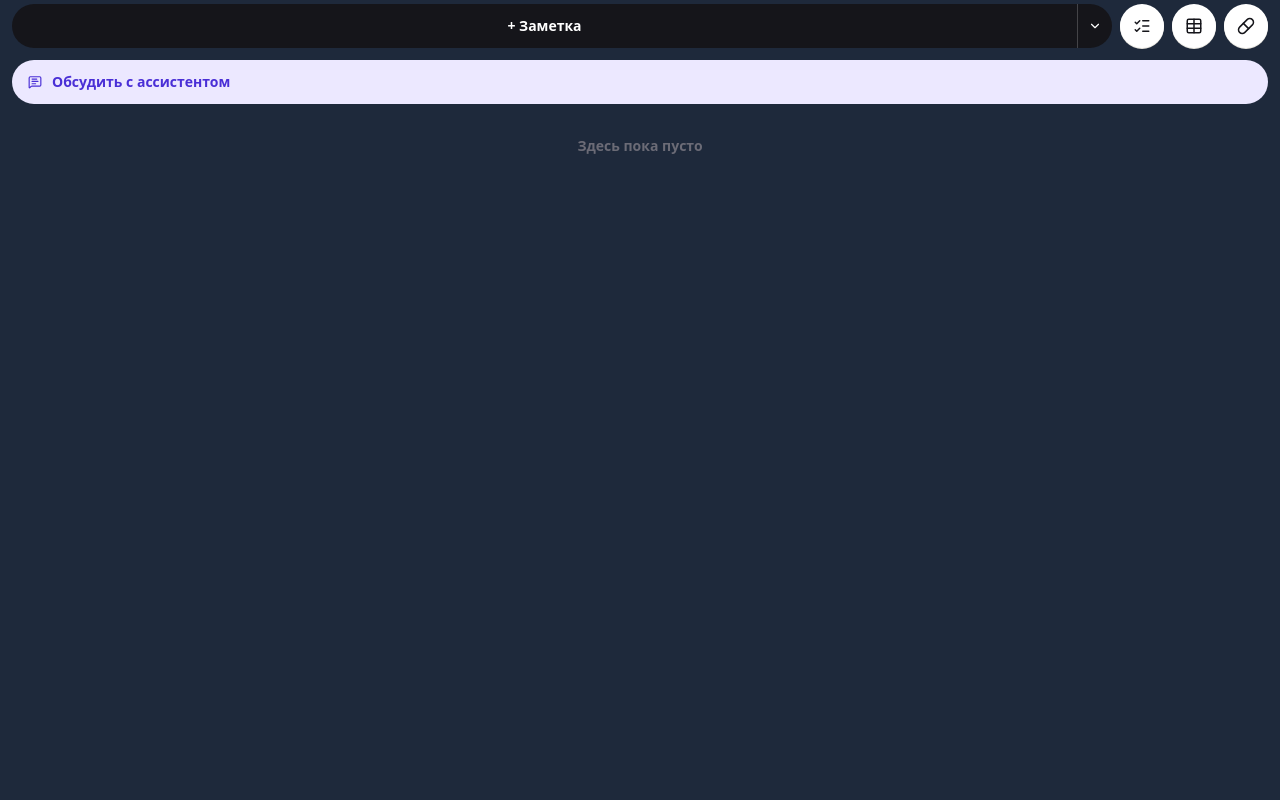
Test: NoteList — «Обсудить с ассистентом» › удаление диалога в пикере зовёт deleteItem и убирает его из списка
Click the button "Обсудить с ассистентом". click: (141, 82)
box: [12, 60, 1268, 104]
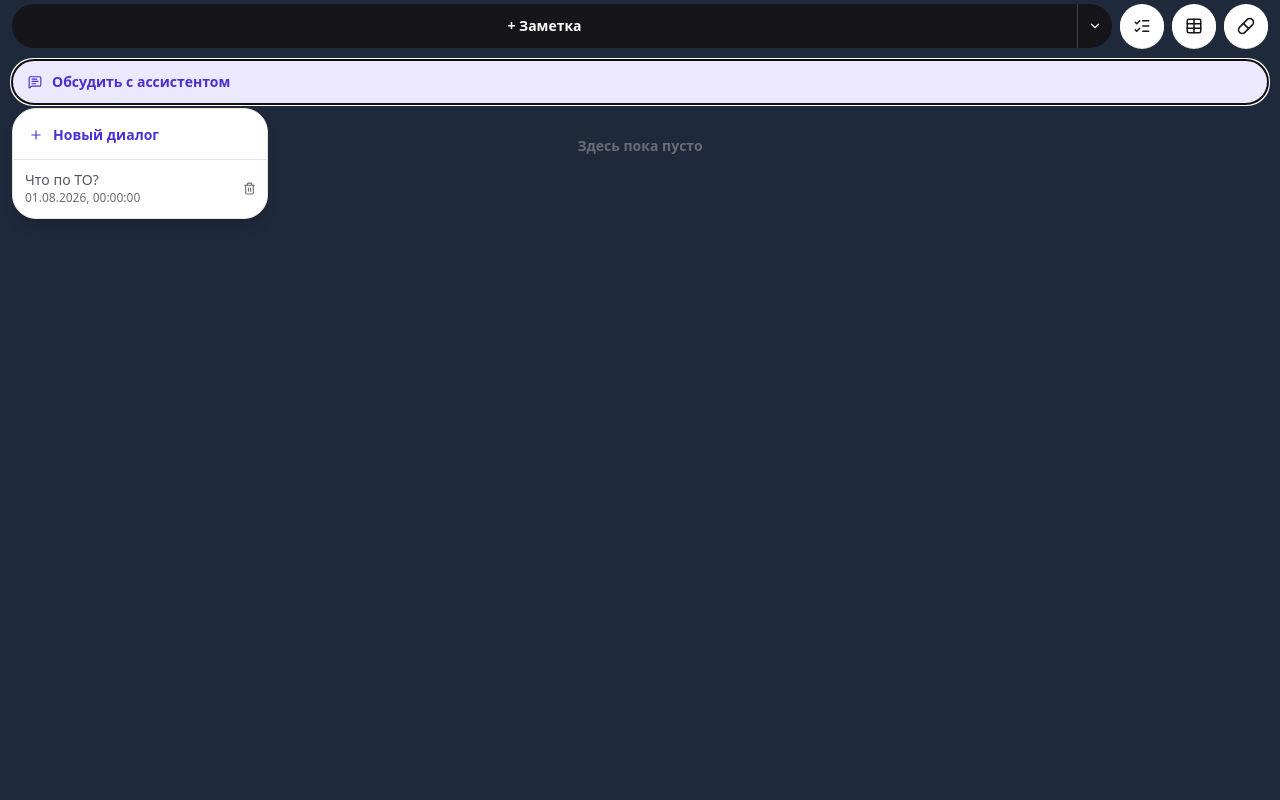
Expected: the text "Что по ТО?" is shown, [25, 170, 99, 189]
Click the button titled "Удалить диалог". click: (249, 188)
box: [235, 174, 263, 202]
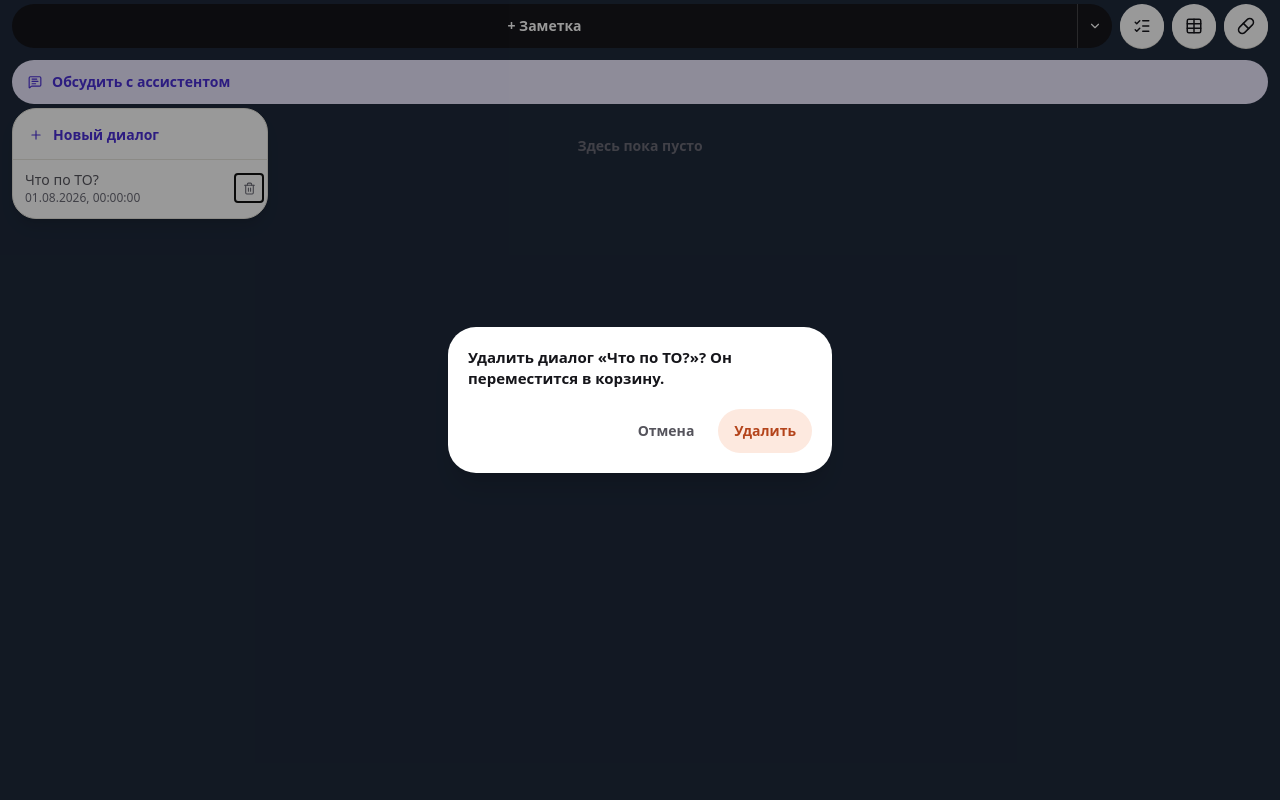
Click the button "Удалить". click: (765, 431)
box: [718, 409, 812, 453]
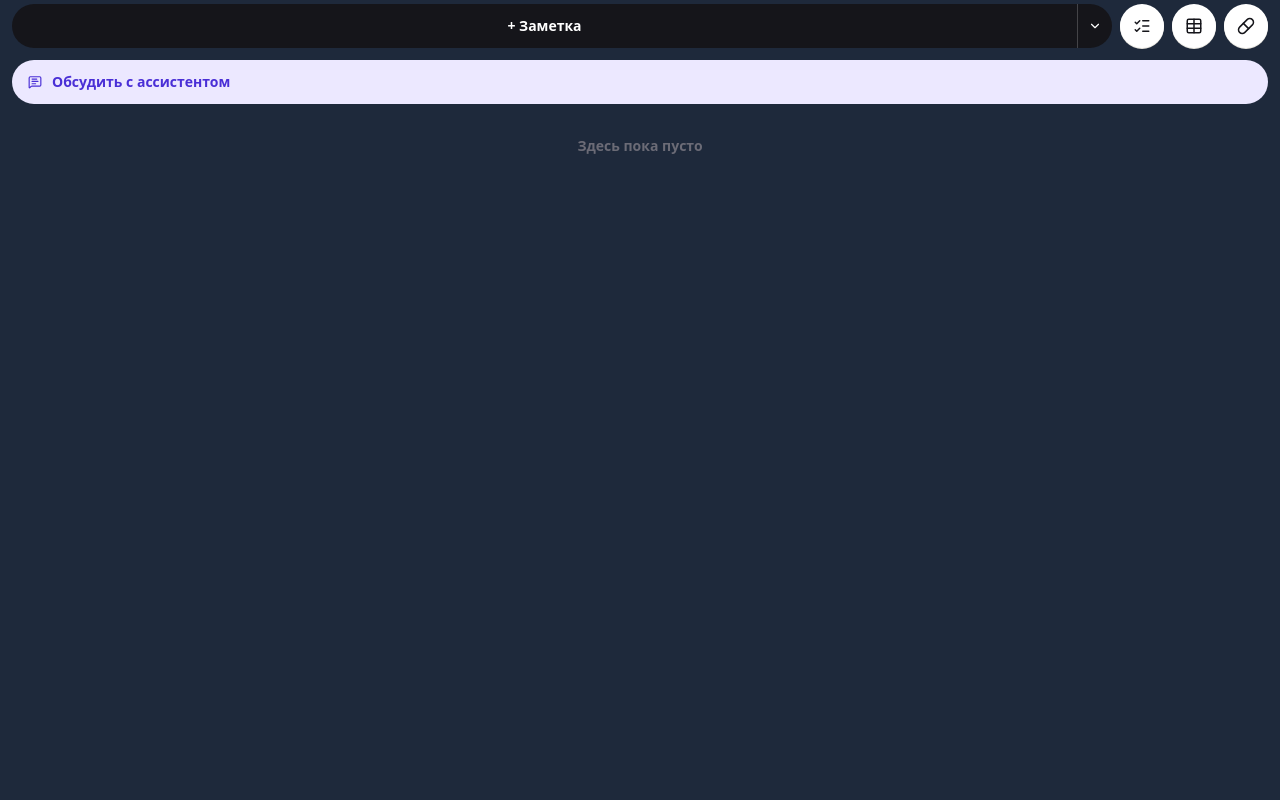
Expected: the button "Что по ТО?" is gone
